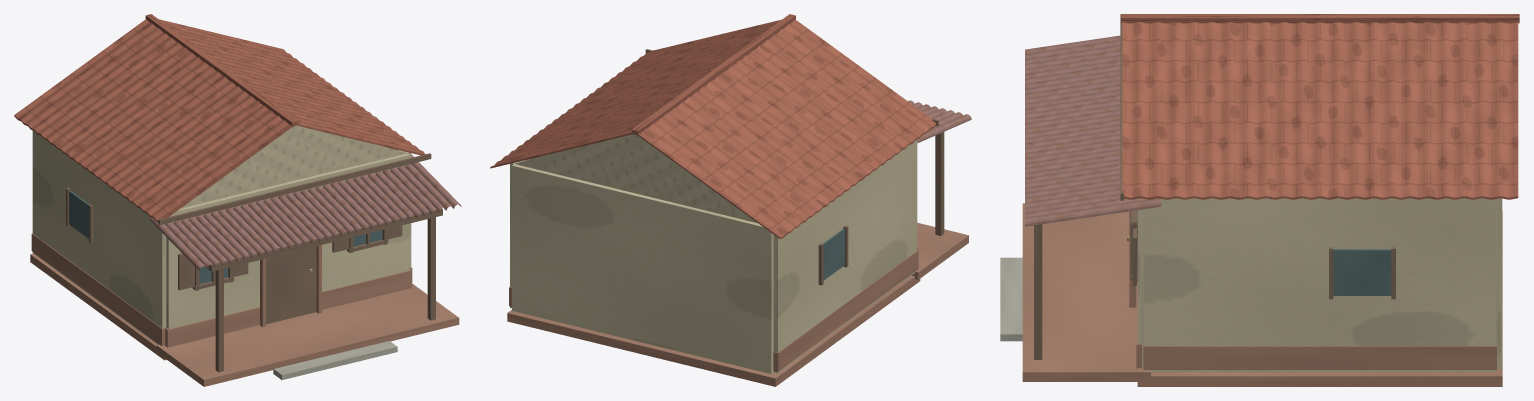
The model's file is Nha01_NgoiDo_HienTon.fbx.
3 renders of one model, left to right at view 1: azimuth 30°, elevation 25°; view 2: azimuth 150°, elevation 25°; view 3: azimuth 270°, elevation 25°, orthographic. The views are drawn at different scales.
Parts seen in each view (by area): view 1: Main_clay_tile_roof, Porch_roof, Side_wall, Porch_floor, Gable_wall, Upper_gable, Door_recess, Front_bottom_band, Bottom_band, Front_fascia, Front_step, Porch_beam (+8 smaller); view 2: Main_clay_tile_roof, Gable_wall.001, Side_wall, Upper_gable.001, Plinth, Bottom_band, Ridge_cap, Porch_floor, Porch_post, Porch_roof, Side_window; view 3: Main_clay_tile_roof, Side_wall.001, Porch_roof, Porch_floor, Bottom_band.001, Plinth, Ridge_cap, Side_window.001, Front_step, Porch_post.001, Gable_wall.001, Gable_wall (+1 smaller).
Boxes of the visible parts, bbox=[...] form: Main_clay_tile_roof: bbox=[14, 19, 425, 222]; Porch_roof: bbox=[149, 154, 461, 270]; Side_wall: bbox=[32, 130, 166, 345]; Porch_floor: bbox=[156, 284, 459, 386]; Gable_wall: bbox=[166, 151, 409, 329]; Upper_gable: bbox=[181, 125, 406, 208]; Door_recess: bbox=[266, 246, 316, 324]; Front_bottom_band: bbox=[165, 269, 411, 347]; Bottom_band: bbox=[31, 233, 166, 346]; Front_fascia: bbox=[158, 153, 431, 224]; Front_step: bbox=[273, 341, 397, 379]; Porch_beam: bbox=[208, 208, 442, 271]; Main_clay_tile_roof: bbox=[490, 19, 936, 238]; Gable_wall.001: bbox=[512, 162, 773, 373]; Side_wall: bbox=[773, 140, 917, 373]; Upper_gable.001: bbox=[514, 134, 757, 223]; Plinth: bbox=[507, 275, 920, 386]; Bottom_band: bbox=[773, 250, 918, 371]; Ridge_cap: bbox=[631, 14, 795, 135]; Porch_floor: bbox=[912, 222, 968, 279]; Porch_post: bbox=[935, 132, 944, 235]; Porch_roof: bbox=[908, 100, 971, 142]; Side_window: bbox=[822, 228, 844, 280]; Main_clay_tile_roof: bbox=[1122, 22, 1518, 199]; Side_wall.001: bbox=[1144, 198, 1496, 371]; Porch_roof: bbox=[1025, 35, 1161, 226]; Porch_floor: bbox=[1022, 203, 1150, 381]; Bottom_band.001: bbox=[1143, 343, 1496, 369]; Plinth: bbox=[1137, 211, 1502, 386]; Ridge_cap: bbox=[1121, 14, 1519, 23]; Side_window.001: bbox=[1333, 249, 1391, 295]; Front_step: bbox=[1000, 257, 1022, 341]; Porch_post.001: bbox=[1034, 224, 1042, 359]; Gable_wall.001: bbox=[1496, 198, 1502, 369]; Gable_wall: bbox=[1138, 209, 1144, 367].
Bounding box in the file's own units: 653 × 489 × 797.
